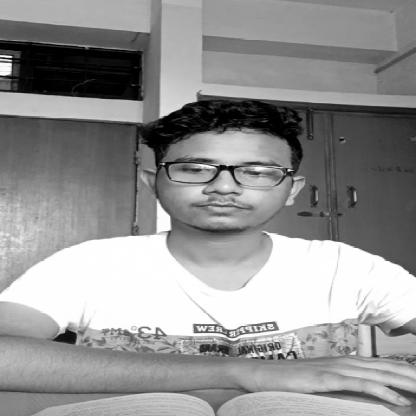Normal: (136, 112, 298, 229)
